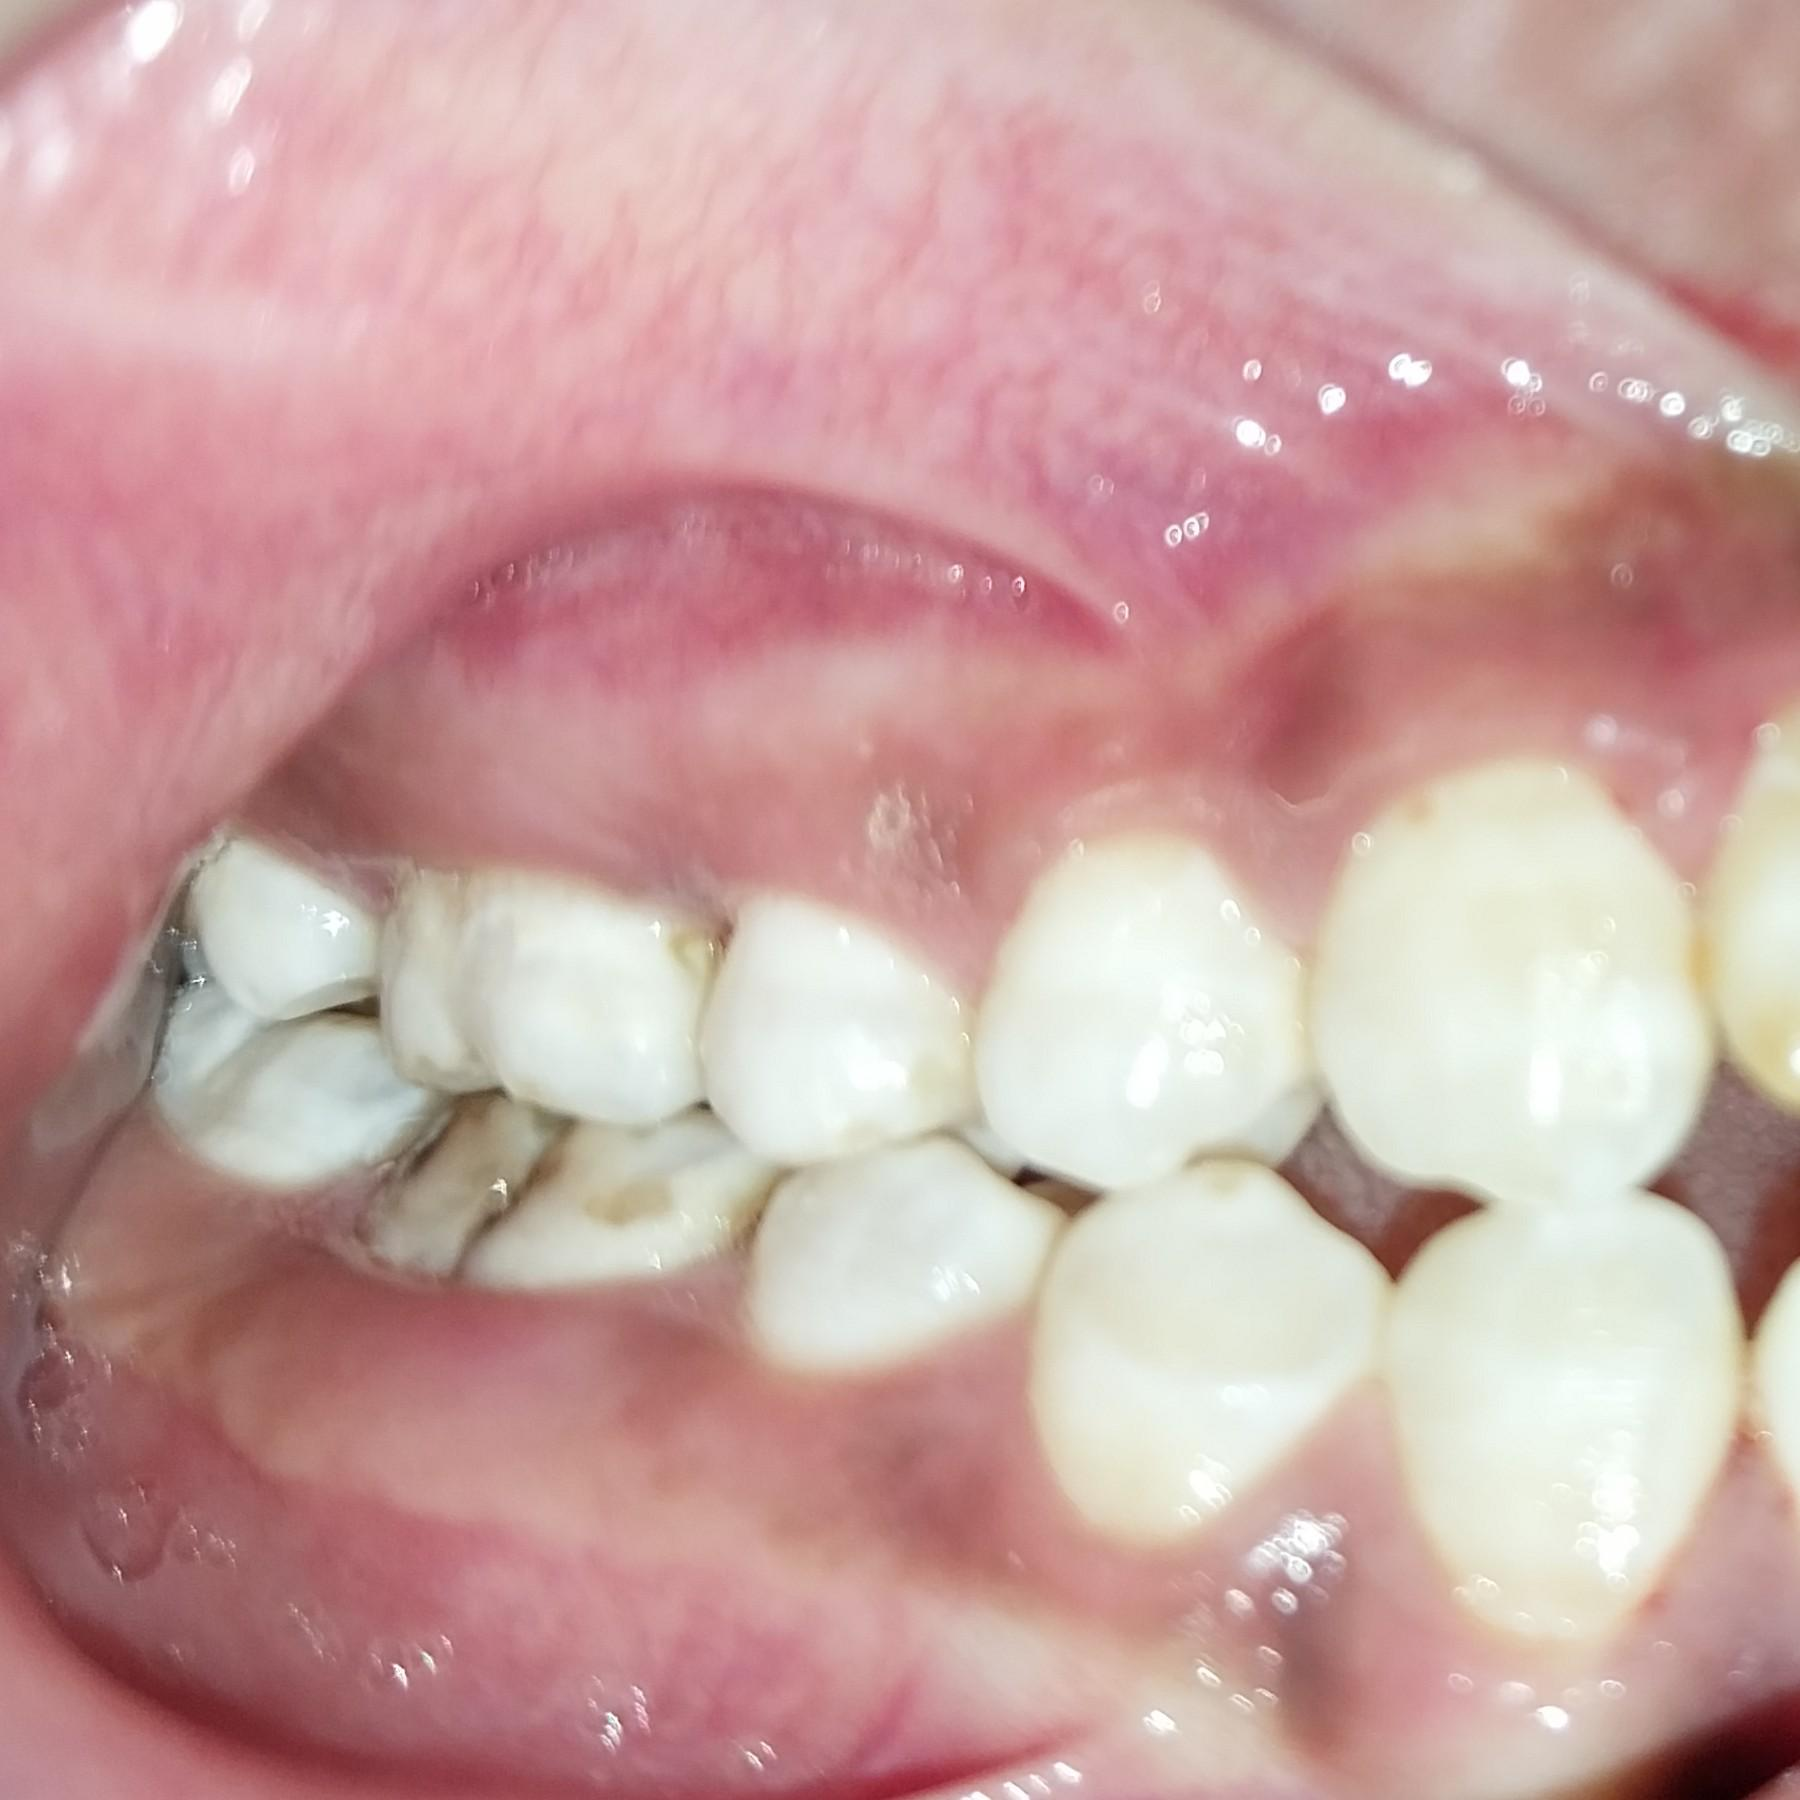D: (365, 1093, 761, 1293)
